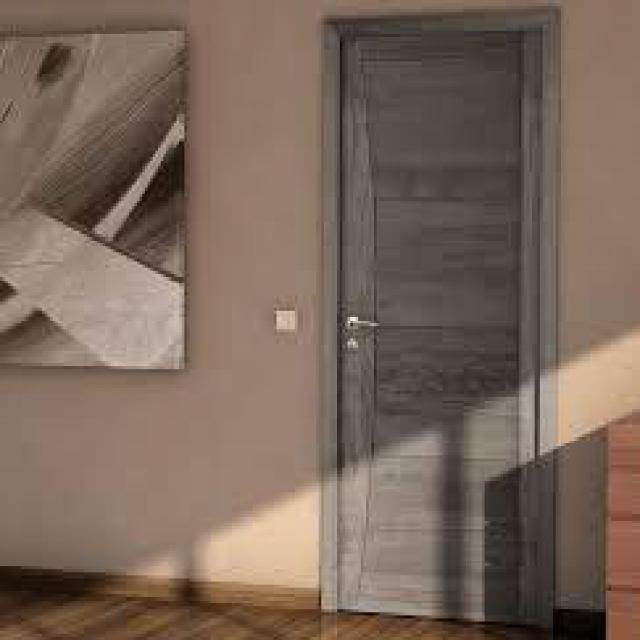close: (319, 12, 574, 637)
